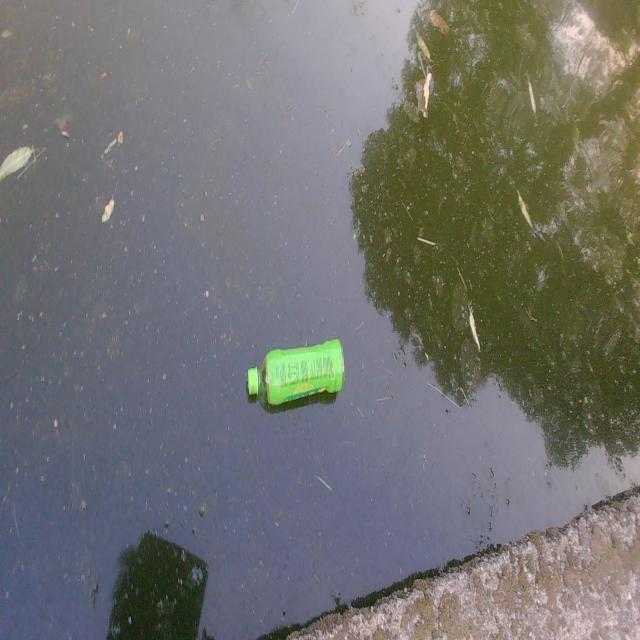bottle: (243, 335, 348, 414)
